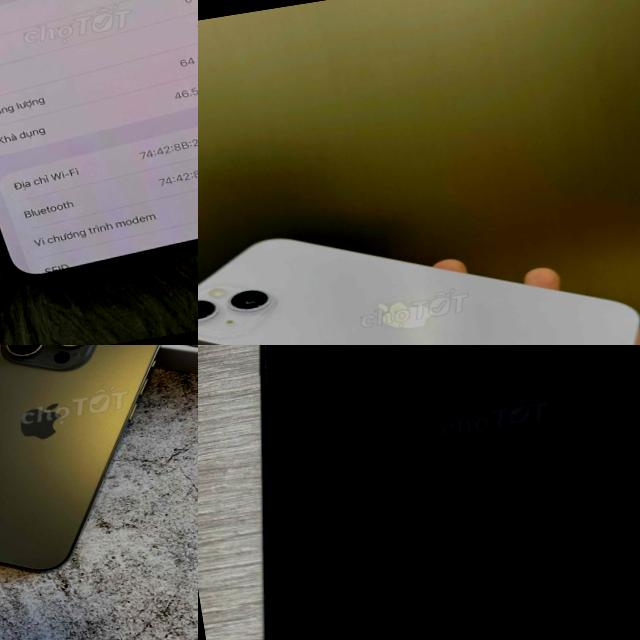gen_11: (0, 0, 198, 319)
gen_12_13: (198, 345, 640, 640)
gen_14: (198, 178, 640, 345)
gen_15: (0, 345, 198, 599)
